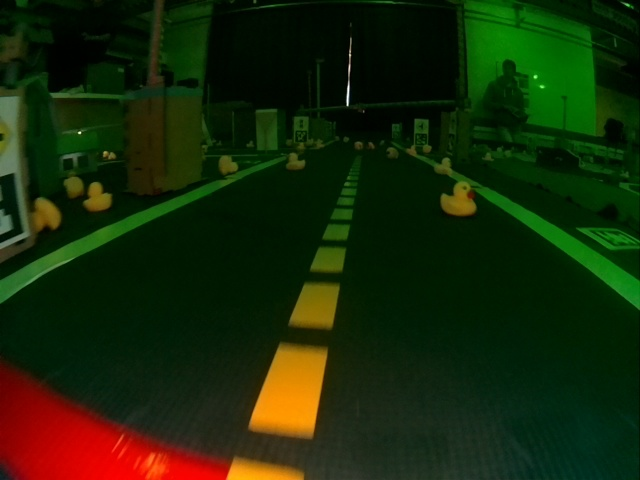Duckie: (441, 181, 477, 216), (31, 196, 61, 231), (83, 182, 107, 212), (63, 172, 84, 196), (218, 155, 236, 174), (286, 153, 303, 170), (435, 158, 454, 173), (386, 147, 399, 159), (354, 141, 363, 150), (366, 142, 375, 150)
QR code: (581, 225, 639, 251), (415, 133, 428, 146), (294, 130, 307, 141)
